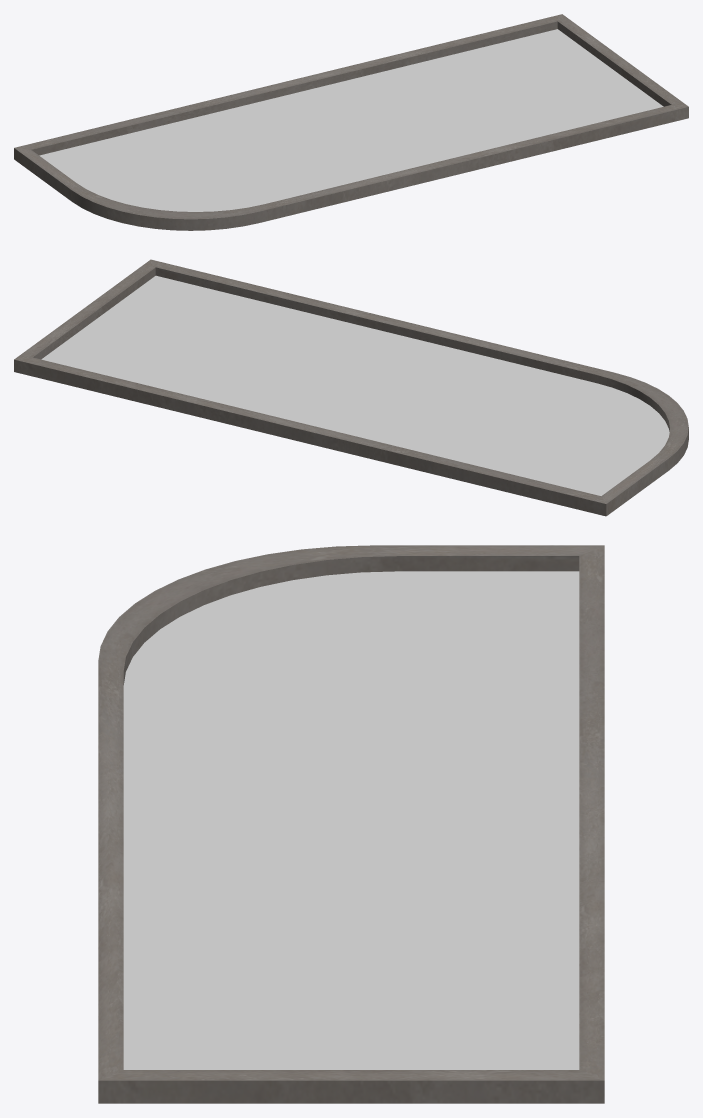
Rendered from Garden_A.fbx.
3 renders of one model, top to bottom at view 1: azimuth 30°, elevation 25°; view 2: azimuth 150°, elevation 25°; view 3: azimuth 270°, elevation 25°, orthographic. The views are drawn at different scales.
Visible parts, largest first — view 1: Garden_A; view 2: Garden_A; view 3: Garden_A.
Part boxes in pixels (x1,y1,x2,y2): Garden_A: (14, 14, 688, 230); Garden_A: (14, 259, 688, 516); Garden_A: (98, 545, 604, 1103).
Bounding box in the file's own units: 150 × 3 × 60.
